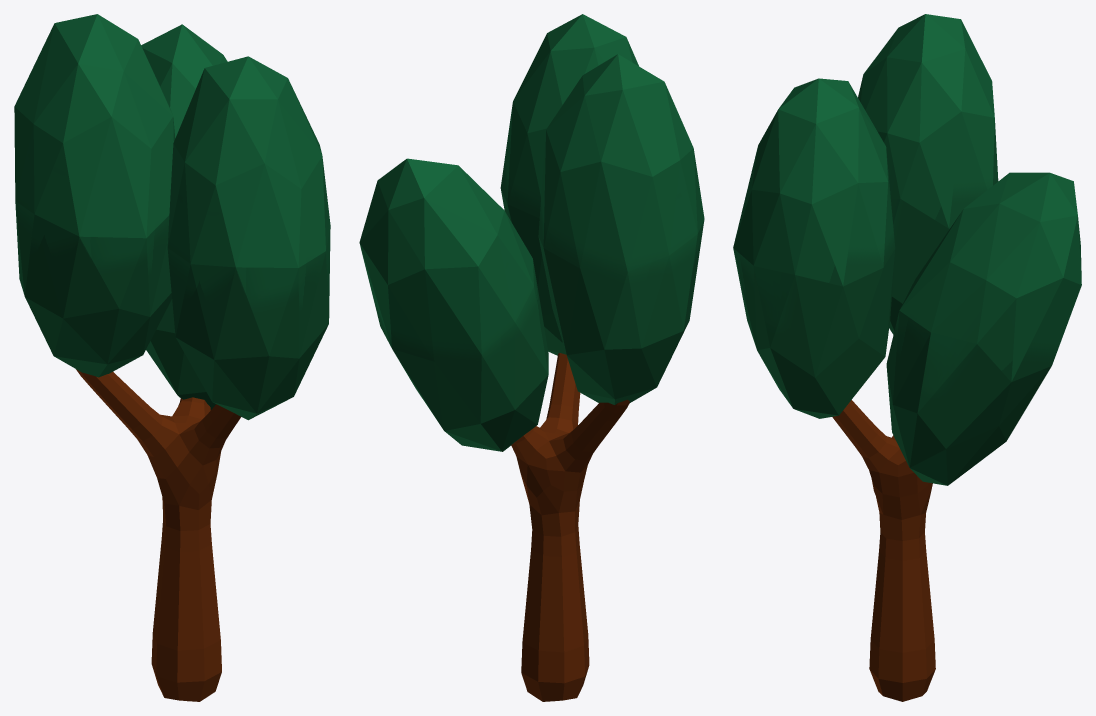
File: tree2.fbx
3 views of the same model, side by side, from view 1: azimuth 30°, elevation 25°; view 2: azimuth 150°, elevation 25°; view 3: azimuth 270°, elevation 25° (orthographic). The views are drawn at different scales.
Visible parts, largest first — view 1: Икосфера.002; view 2: Икосфера.002; view 3: Икосфера.002.
Part boxes in pixels (bbox=[...]): Икосфера.002: bbox=[14, 14, 330, 701]; Икосфера.002: bbox=[359, 14, 704, 701]; Икосфера.002: bbox=[733, 14, 1081, 701].
Bounding box in the file's own units: 381 × 897 × 436.
